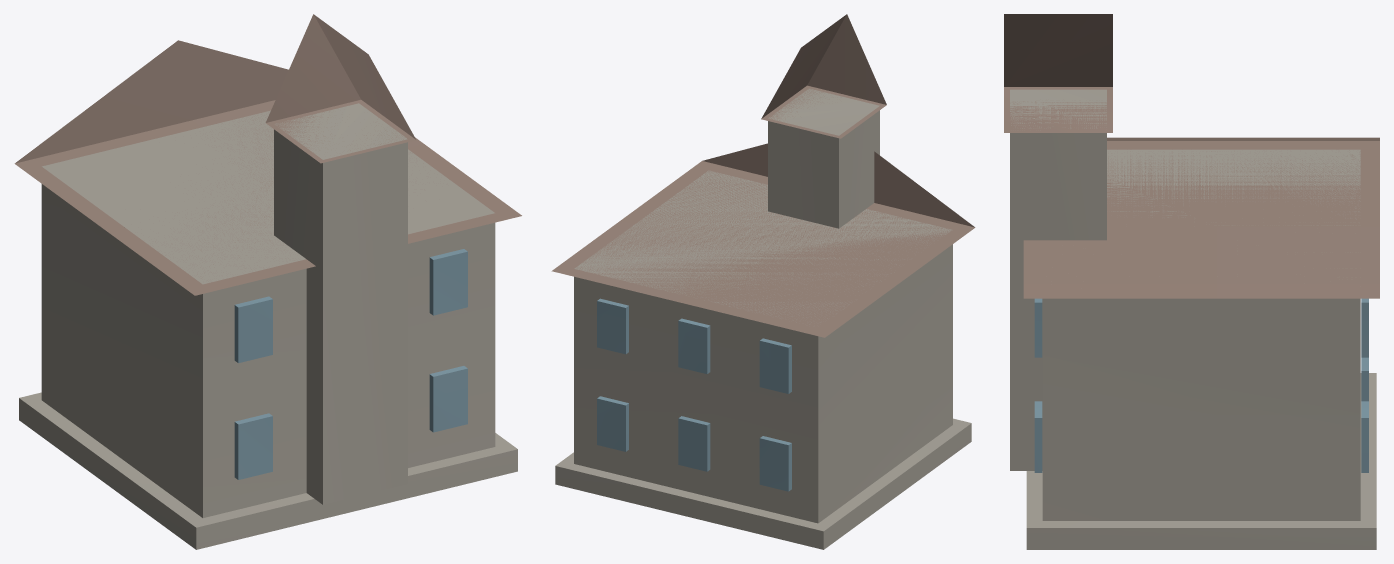
The model's file is church-04.glb.
The picture shows the model from 3 angles, left to right: view 1: azimuth 30°, elevation 25°; view 2: azimuth 150°, elevation 25°; view 3: azimuth 270°, elevation 25°; orthographic projection. The views are drawn at different scales.
Visible parts, largest first — view 1: world; view 2: world; view 3: world.
Boxes of the visible parts, x1,y1,x2,y2 form: world: (14,14,521,549); world: (551,14,975,549); world: (1004,14,1379,549).
Bounding box in the file's own units: 1.23 × 1.67 × 1.24.
